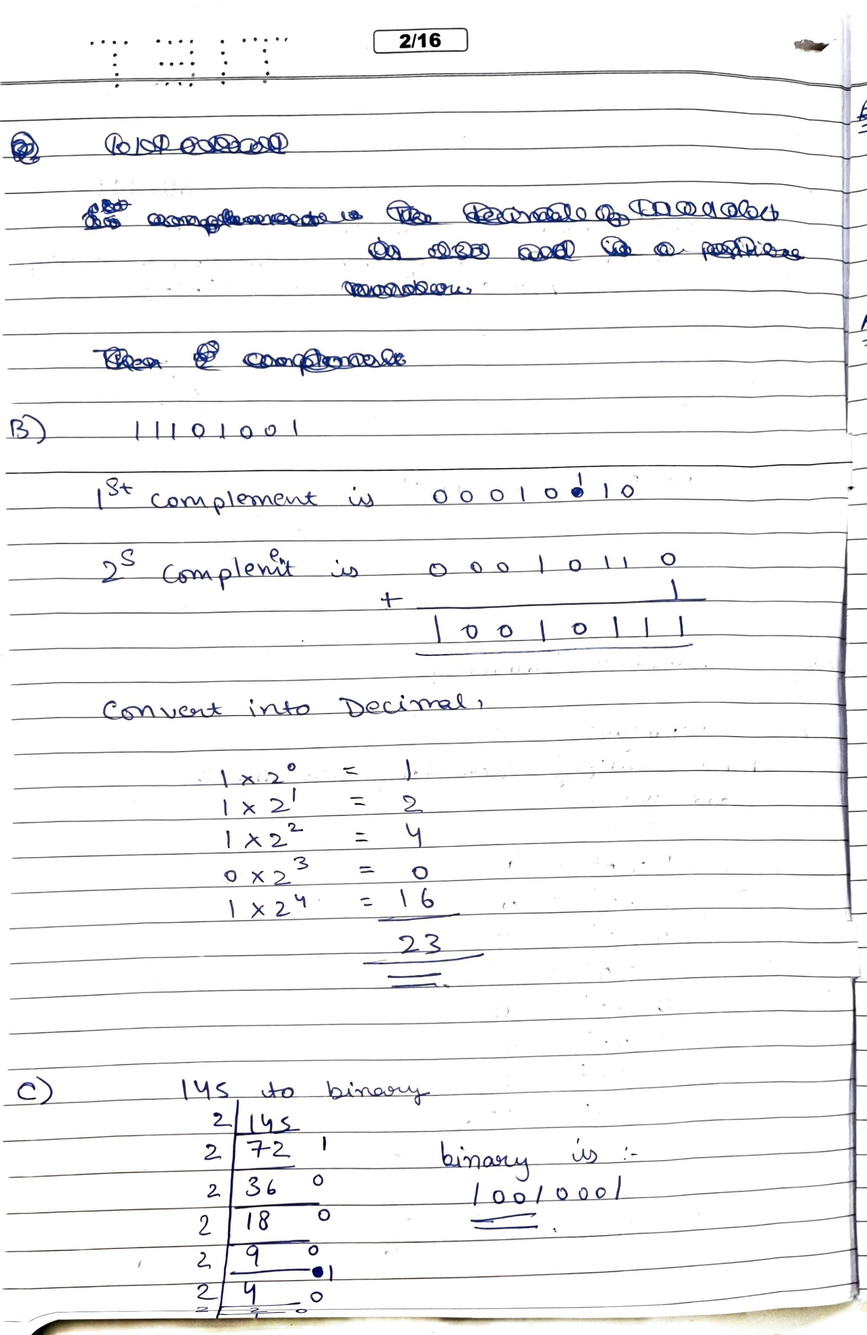cuttings: (461, 197, 781, 230), (145, 207, 366, 238), (241, 346, 408, 379), (103, 131, 290, 158), (365, 235, 492, 264), (339, 278, 474, 301), (701, 235, 807, 262), (91, 346, 163, 374), (81, 197, 133, 233), (517, 238, 583, 263), (385, 199, 442, 227), (8, 129, 45, 170), (192, 338, 224, 374), (599, 235, 633, 258), (652, 239, 686, 259), (311, 1265, 324, 1279), (570, 487, 585, 499)
